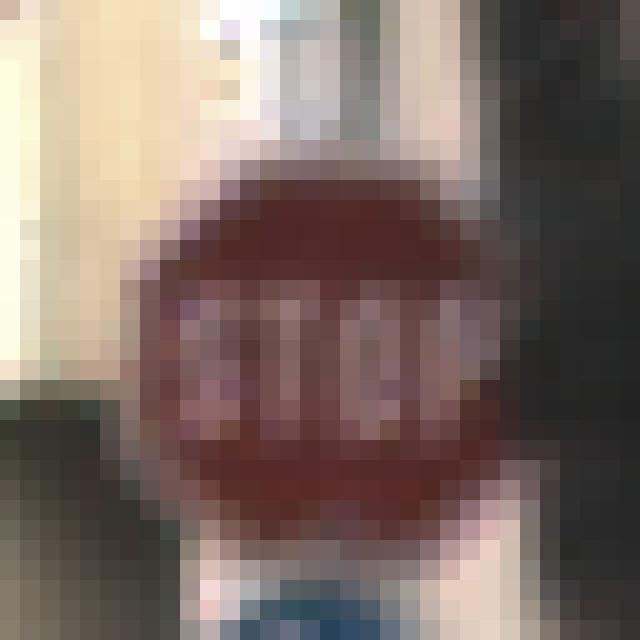STOP: (121, 101, 541, 521)
